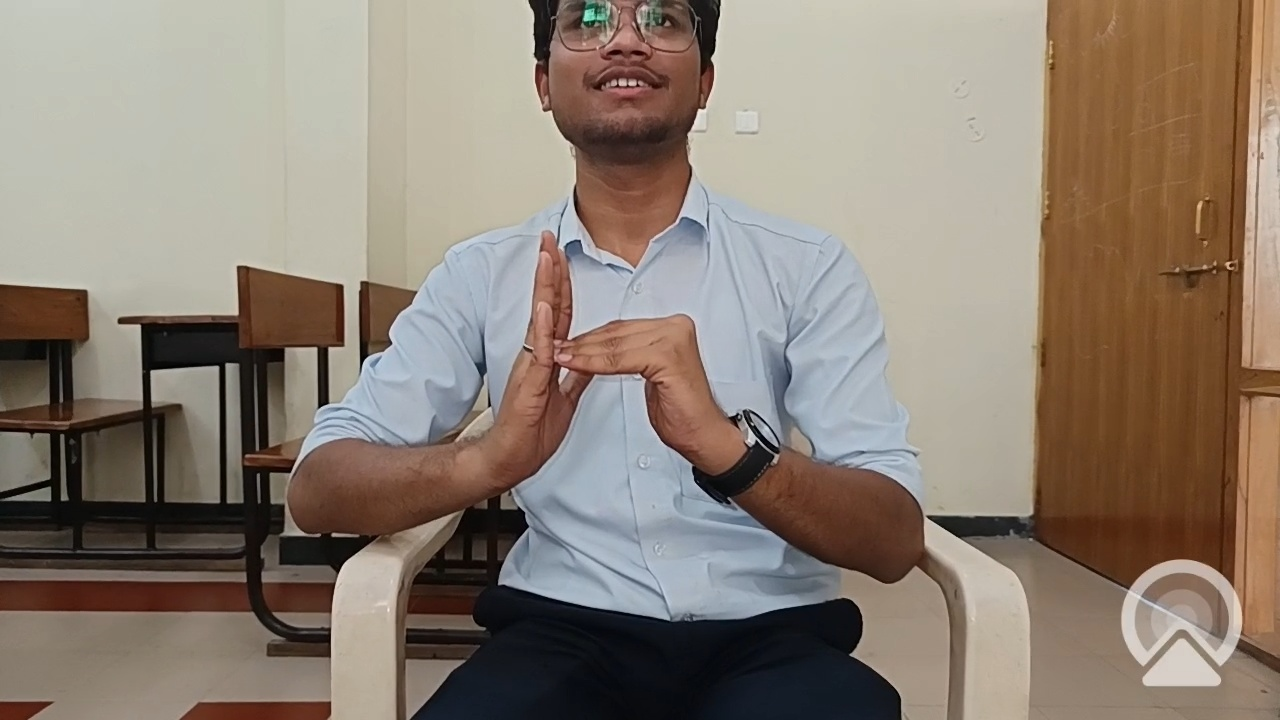Z: (441, 205, 749, 550)
